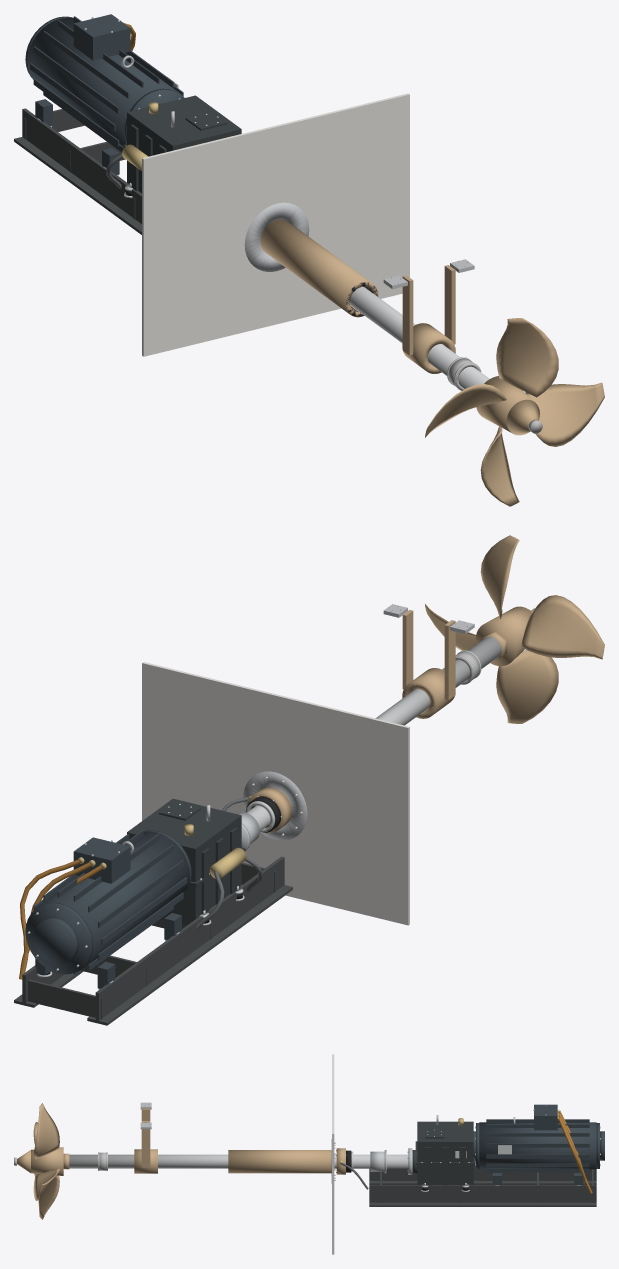
The model's file is propulsione.glb.
The picture shows the model from 3 angles, top to bottom: view 1: azimuth 30°, elevation 25°; view 2: azimuth 150°, elevation 25°; view 3: azimuth 270°, elevation 25°; orthographic projection. The views are drawn at different scales.
Parts seen in each view (by area): view 1: prop_scafo_MESH, prop_motore_MESH, prop_elica_MESH, prop_supporti_MESH, prop_astuccio_MESH, prop_riduttore_MESH, prop_albero_MESH; view 2: prop_scafo_MESH, prop_motore_MESH, prop_supporti_MESH, prop_elica_MESH, prop_riduttore_MESH, prop_albero_MESH, prop_astuccio_MESH; view 3: prop_supporti_MESH, prop_motore_MESH, prop_riduttore_MESH, prop_albero_MESH, prop_astuccio_MESH, prop_elica_MESH, prop_scafo_MESH.
Boxes of the visible parts, bbox=[...] form: prop_scafo_MESH: bbox=[142, 93, 409, 356]; prop_motore_MESH: bbox=[25, 14, 184, 174]; prop_elica_MESH: bbox=[425, 318, 604, 506]; prop_supporti_MESH: bbox=[14, 108, 474, 373]; prop_astuccio_MESH: bbox=[244, 202, 378, 317]; prop_riduttore_MESH: bbox=[106, 95, 241, 193]; prop_albero_MESH: bbox=[349, 286, 489, 390]; prop_scafo_MESH: bbox=[142, 662, 409, 925]; prop_motore_MESH: bbox=[19, 830, 191, 988]; prop_supporti_MESH: bbox=[14, 604, 474, 1025]; prop_elica_MESH: bbox=[425, 535, 604, 723]; prop_riduttore_MESH: bbox=[127, 798, 262, 929]; prop_albero_MESH: bbox=[237, 636, 501, 851]; prop_astuccio_MESH: bbox=[222, 771, 307, 840]; prop_supporti_MESH: bbox=[134, 1102, 596, 1206]; prop_motore_MESH: bbox=[473, 1104, 604, 1193]; prop_riduttore_MESH: bbox=[412, 1115, 475, 1185]; prop_albero_MESH: bbox=[69, 1148, 412, 1174]; prop_astuccio_MESH: bbox=[228, 1139, 368, 1189]; prop_elica_MESH: bbox=[14, 1103, 69, 1219]; prop_scafo_MESH: bbox=[332, 1054, 334, 1254].
Bounding box in the file's own units: 2.4 × 1.75 × 7.54.
